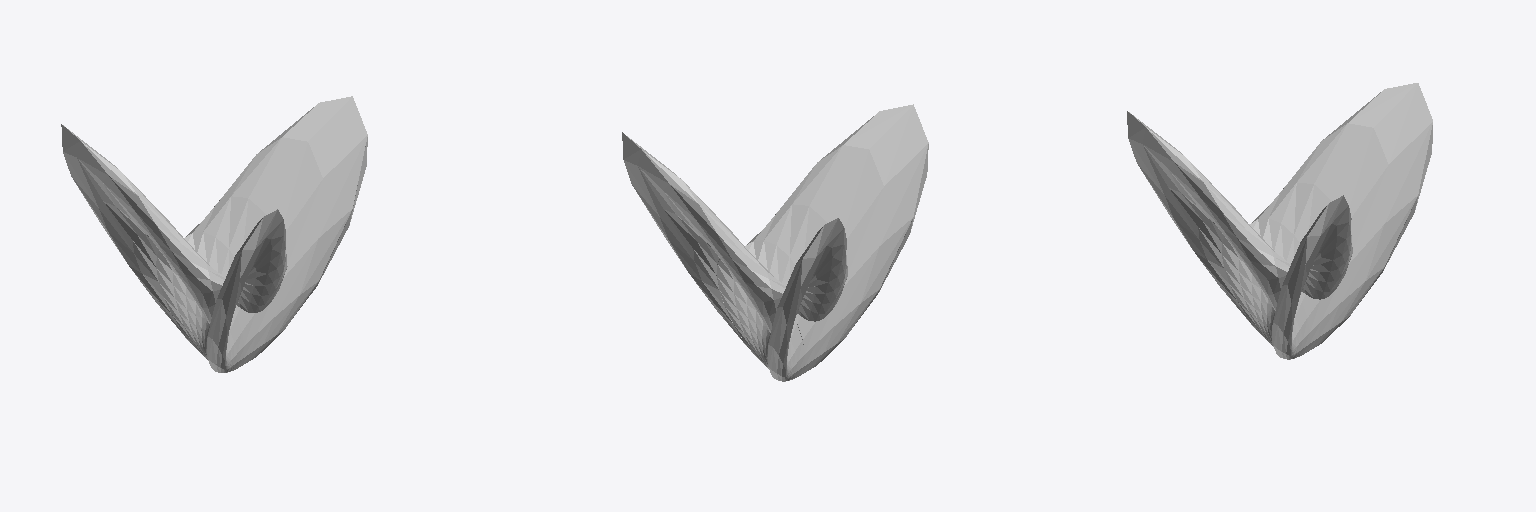
Rendered from boy.obj.
3 views of the same model, side by side, from view 1: azimuth 30°, elevation 25°; view 2: azimuth 150°, elevation 25°; view 3: azimuth 270°, elevation 25° (orthographic).
Visible parts, largest first — view 1: XYZ_Function.003, XYZ_Function.000_XYZ_Function.004; view 2: XYZ_Function.003, XYZ_Function.000_XYZ_Function.004; view 3: XYZ_Function.003, XYZ_Function.000_XYZ_Function.004.
Boxes of the visible parts, <box> form: XYZ_Function.003: <box>62,96,367,372</box>; XYZ_Function.000_XYZ_Function.004: <box>61,97,367,372</box>; XYZ_Function.003: <box>622,104,928,381</box>; XYZ_Function.000_XYZ_Function.004: <box>622,105,928,381</box>; XYZ_Function.003: <box>1127,83,1432,359</box>; XYZ_Function.000_XYZ_Function.004: <box>1127,83,1432,359</box>.
Bounding box in the file's own units: 3.46 × 2.96 × 3.67.